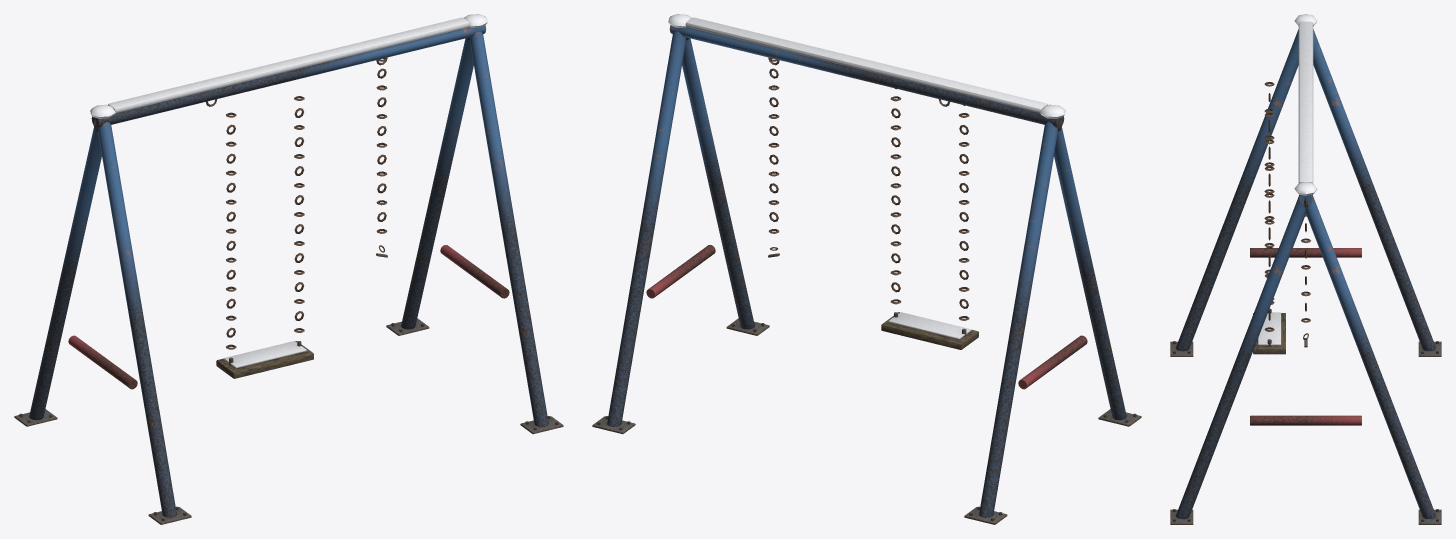
The model's file is g67_swing_set.glb.
3 views of the same model, side by side, from view 1: azimuth 30°, elevation 25°; view 2: azimuth 150°, elevation 25°; view 3: azimuth 270°, elevation 25° (orthographic). The views are drawn at different scales.
Visible parts, largest first — view 1: leg, leg.002, snow_bar, leg.001, leg.003, bar, seat, cross, cross.001; view 2: leg.001, leg.003, snow_bar, leg, leg.002, bar, seat, cross, cross.001; view 3: leg.002, leg.003, leg.001, leg, snow_bar, seat, cross.001, cross.
Part boxes in pixels (x1,y1,x2,y2): leg: (98,121,176,517); leg.002: (469,31,548,426); snow_bar: (108,17,470,113); leg.001: (29,127,101,420); leg.003: (401,38,473,329); bar: (91,25,486,128); seat: (216,96,313,378); cross: (68,335,137,389); cross.001: (440,245,509,298); leg.001: (979,121,1057,517); leg.003: (607,31,686,426); snow_bar: (685,17,1047,113); leg: (1054,127,1126,420); leg.002: (682,38,754,329); bar: (669,25,1064,128); seat: (881,88,978,349); cross: (1018,335,1087,389); cross.001: (646,245,715,298); leg.002: (1176,196,1305,518); leg.003: (1306,196,1435,518); leg.001: (1313,29,1435,351); leg: (1176,29,1298,351); snow_bar: (1298,21,1313,182); seat: (1253,82,1285,354); cross.001: (1250,415,1361,425); cross: (1250,248,1361,257).
Size of the model in its own units: 2.6 by 2.24 by 1.64.
1 material, 1 textured.
